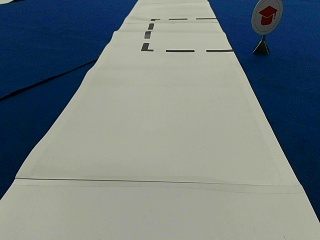school: (250, 1, 282, 33)
